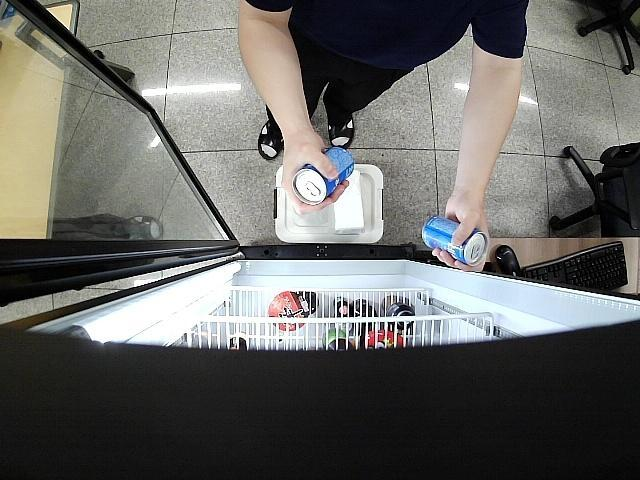15_letsbe: (294, 145, 354, 206), (422, 216, 488, 266)
